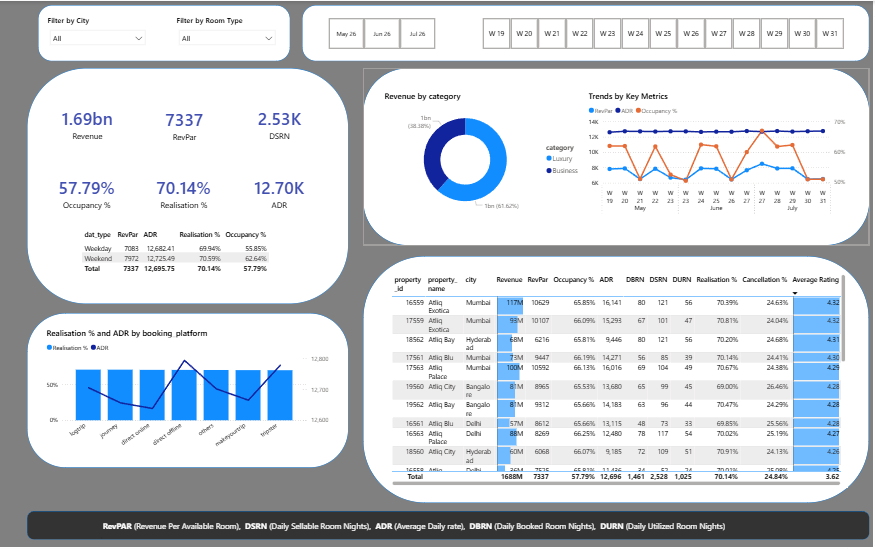

This screenshot's page, from the dashboard's own definition file:
{"tool":"powerbi","page":{"name":"Page 1","canvas":[1800,1100],"ordinal":0},"visuals":[{"type":"shape","box":[79.8,16,504.5,112.6],"z":0},{"type":"shape","box":[730,518,1012,494],"z":0,"group":"g3"},{"type":"shape","box":[608.2,16,1134.6,112.6],"z":1000},{"type":"shape","box":[58,142,643.1,472],"z":1000,"group":"g2"},{"type":"slicer","title":"Filter by City","fields":{"Values":["dim_hotels.city"]},"box":[94.3,36.5,211.2,72.6],"z":2000},{"type":"slicer","title":"Filter by Room Type","fields":{"Values":["dim_rooms.room_id"]},"box":[351.7,36.5,213.4,72.6],"z":3000},{"type":"tableEx","fields":{"Values":["dim_hotels.property_id","dim_hotels.property_name","dim_hotels.city","key_measures.Revenue","key_measures.RevPar","key_measures.Occupancy %","key_measures.ADR","key_measures.DBRN","key_measures.DSRN","key_measures.DURN","key_measures.Realisation %","key_measures.Cancellation %"]},"box":[782,550,918,432],"z":3000,"group":"g3"},{"type":"slicer","fields":{"Values":["dim_date.mmm yy"]},"box":[636.3,35.5,262,73.6],"z":4000},{"type":"slicer","fields":{"Values":["dim_date.week no"]},"box":[943.8,35.5,770.9,73.6],"z":5000},{"type":"group","id":"g1","title":"Group 1","box":[730,142,1012,354],"z":6000},{"type":"group","id":"g2","title":"Group 2","box":[58,142,644,472],"z":7000},{"type":"shape","box":[730,142,1013.4,355.1],"z":7000,"group":"g1"},{"type":"group","id":"g3","title":"Group 3","box":[730,518,1012,494],"z":8000},{"type":"group","id":"g4","title":"Group 4","box":[58,632,644,310],"z":9000},{"type":"card","fields":{"Values":["key_measures.Revenue"]},"box":[90.5,186.7,177.6,134.3],"z":10000,"group":"g2"},{"type":"shape","box":[57.4,1027.7,1685.1,57.4],"z":10000},{"type":"donutChart","fields":{"Y":["key_measures.Revenue"],"Category":["dim_hotels.category"]},"box":[769,185.3,407.1,257.7],"z":11000,"group":"g1"},{"type":"textbox","box":[200,1042.6,1310.6,57.4],"z":11000},{"type":"card","fields":{"Values":["key_measures.Realisation %"]},"box":[283.2,321.7,175.4,136.4],"z":12000,"group":"g2"},{"type":"card","fields":{"Values":["key_measures.RevPar"]},"box":[285.6,185.6,173.8,136.4],"z":13000,"group":"g2"},{"type":"card","fields":{"Values":["key_measures.Occupancy %"]},"box":[90.5,321.7,175.4,136.4],"z":14000,"group":"g2"},{"type":"card","fields":{"Values":["key_measures.DSRN"]},"box":[477,186.7,173.8,134.2],"z":15000,"group":"g2"},{"type":"card","fields":{"Values":["key_measures.ADR"]},"box":[475.9,321.7,173.2,136.4],"z":16000,"group":"g2"},{"type":"lineChart","title":"Trends by Key Metrics","fields":{"Y":["key_measures.RevPar","key_measures.ADR"],"Category":["dim_date.mmm yy.Variation.Date Hierarchy.Month","dim_date.week no"],"Y2":["key_measures.Occupancy %"]},"box":[1176.1,185.3,524,257.7],"z":17000,"group":"g1"},{"type":"shape","box":[58,632,643.1,309.6],"z":18000,"group":"g4"},{"type":"lineStackedColumnComboChart","fields":{"Category":["fact_bookings.booking_platform"],"Y":["key_measures.Realisation %"],"Y2":["key_measures.ADR"]},"box":[92.6,660.1,573.8,255.5],"z":19000,"group":"g4"},{"type":"tableEx","fields":{"Values":["dim_date.dat_type","key_measures.RevPar","key_measures.ADR","key_measures.Realisation %","key_measures.Occupancy %"]},"box":[161.9,458.1,400.6,119.1],"z":20000,"group":"g2"}]}

Visuals, with their boxes in screenshot pixels (x1, y1, x2, y2), scaled from the page's 1800x1100 canvas onto the 875x549 screenshot:
shape: 39, 8, 284, 64
shape: 355, 259, 847, 505
shape: 296, 8, 847, 64
shape: 28, 71, 341, 306
"Filter by City" slicer: 46, 18, 149, 54
"Filter by Room Type" slicer: 171, 18, 275, 54
tableEx - dim_hotels.property_id x dim_hotels.property_name: 380, 274, 826, 490
slicer - dim_date.mmm yy: 309, 18, 437, 54
slicer - dim_date.week no: 459, 18, 834, 54
"Group 1" group: 355, 71, 847, 248
"Group 2" group: 28, 71, 341, 306
shape: 355, 71, 847, 248
"Group 3" group: 355, 259, 847, 505
"Group 4" group: 28, 315, 341, 470
card - key_measures.Revenue: 44, 93, 130, 160
shape: 28, 513, 847, 542
donutChart - key_measures.Revenue x dim_hotels.category: 374, 92, 572, 221
textbox: 97, 520, 734, 548
card - key_measures.Realisation %: 138, 161, 223, 229
card - key_measures.RevPar: 139, 93, 223, 161
card - key_measures.Occupancy %: 44, 161, 129, 229
card - key_measures.DSRN: 232, 93, 316, 160
card - key_measures.ADR: 231, 161, 316, 229
"Trends by Key Metrics" lineChart: 572, 92, 826, 221
shape: 28, 315, 341, 470
lineStackedColumnComboChart - fact_bookings.booking_platform x key_measures.Realisation %: 45, 329, 324, 457
tableEx - dim_date.dat_type x key_measures.RevPar: 79, 229, 273, 288
